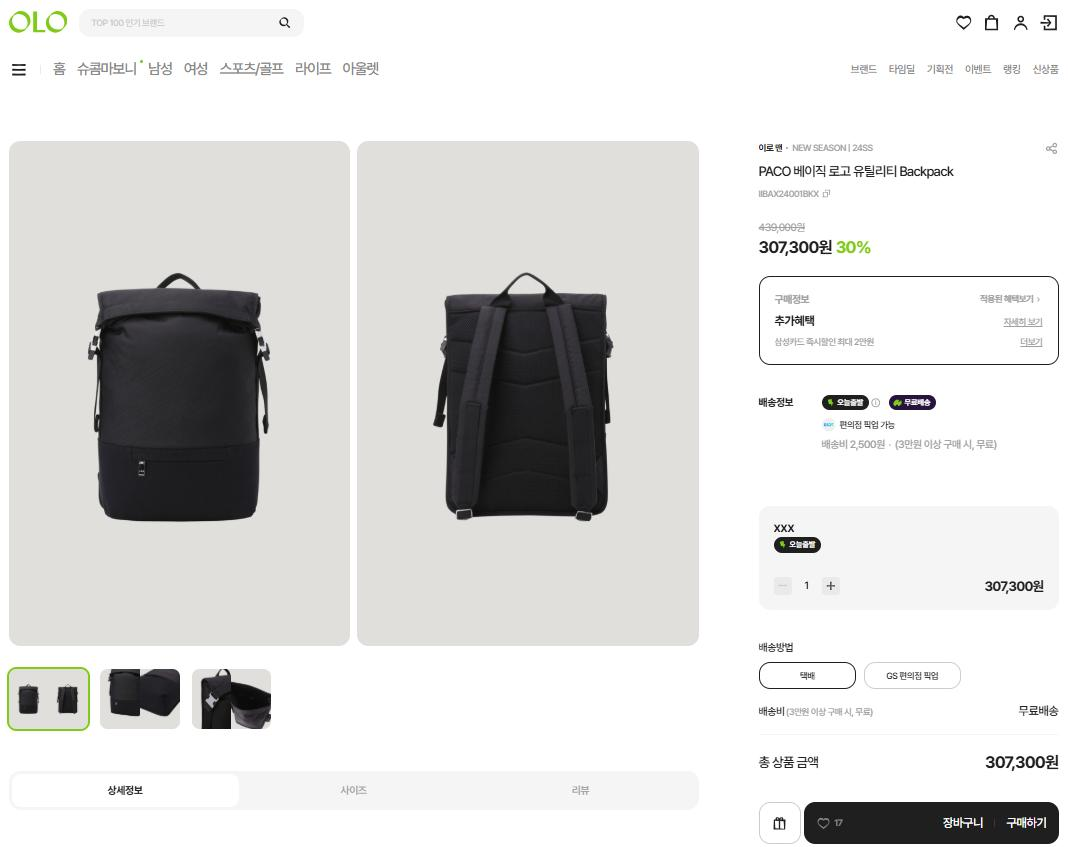button: (236, 774, 489, 813), (9, 772, 241, 813), (490, 775, 701, 813), (3, 669, 99, 738), (95, 668, 191, 734), (191, 671, 280, 735), (758, 663, 858, 689), (221, 53, 286, 84), (84, 53, 146, 84), (874, 668, 964, 689), (751, 806, 801, 843), (288, 50, 342, 82), (970, 289, 1044, 309), (346, 55, 389, 86), (40, 55, 80, 88), (993, 812, 1049, 835), (946, 811, 990, 839), (922, 56, 965, 84), (1030, 6, 1066, 35), (951, 10, 983, 40), (954, 56, 996, 78), (1001, 10, 1031, 40), (178, 61, 215, 85), (845, 61, 886, 81), (886, 60, 921, 81), (150, 56, 179, 80), (1043, 133, 1064, 164), (996, 314, 1050, 326), (1028, 61, 1062, 80), (980, 14, 1000, 35), (1017, 336, 1045, 349), (996, 60, 1016, 76)
checkbox: (6, 59, 34, 83)
input_field: (80, 7, 302, 38)
